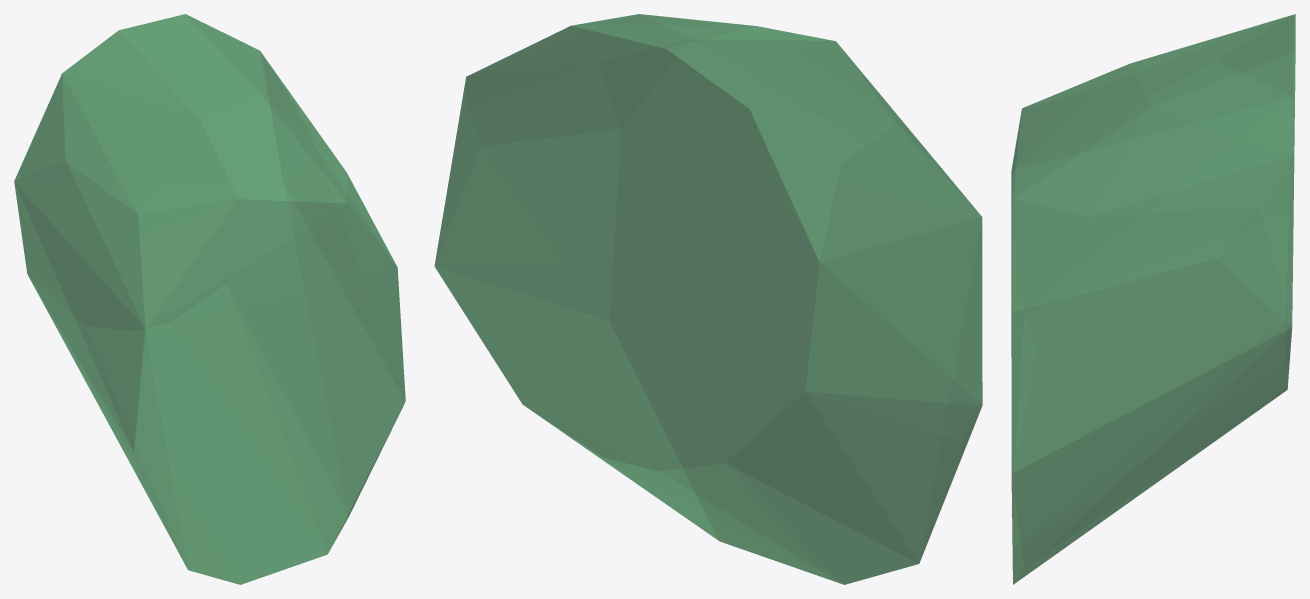
The picture shows the model from 3 angles, left to right: view 1: azimuth 30°, elevation 25°; view 2: azimuth 150°, elevation 25°; view 3: azimuth 270°, elevation 25°; orthographic projection. The views are drawn at different scales.
Parts seen in each view (by area): view 1: Shape_IndexedFaceSet.008_Shape_IndexedFaceSet.10755; view 2: Shape_IndexedFaceSet.008_Shape_IndexedFaceSet.10755; view 3: Shape_IndexedFaceSet.008_Shape_IndexedFaceSet.10755.
Boxes of the visible parts, box(x1,y1,x2,y2) form: Shape_IndexedFaceSet.008_Shape_IndexedFaceSet.10755: box(14, 14, 405, 584); Shape_IndexedFaceSet.008_Shape_IndexedFaceSet.10755: box(434, 14, 982, 584); Shape_IndexedFaceSet.008_Shape_IndexedFaceSet.10755: box(1011, 14, 1295, 584).
Size of the model in its own units: 0.1201 by 0.1978 by 0.0956.
